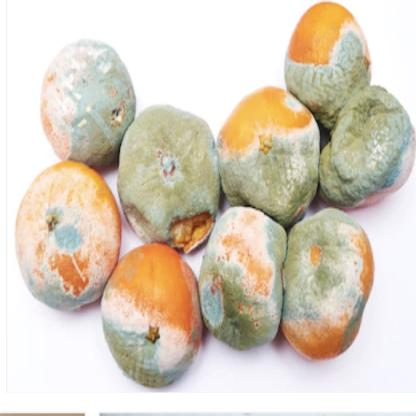rotten: (18, 6, 416, 394)
